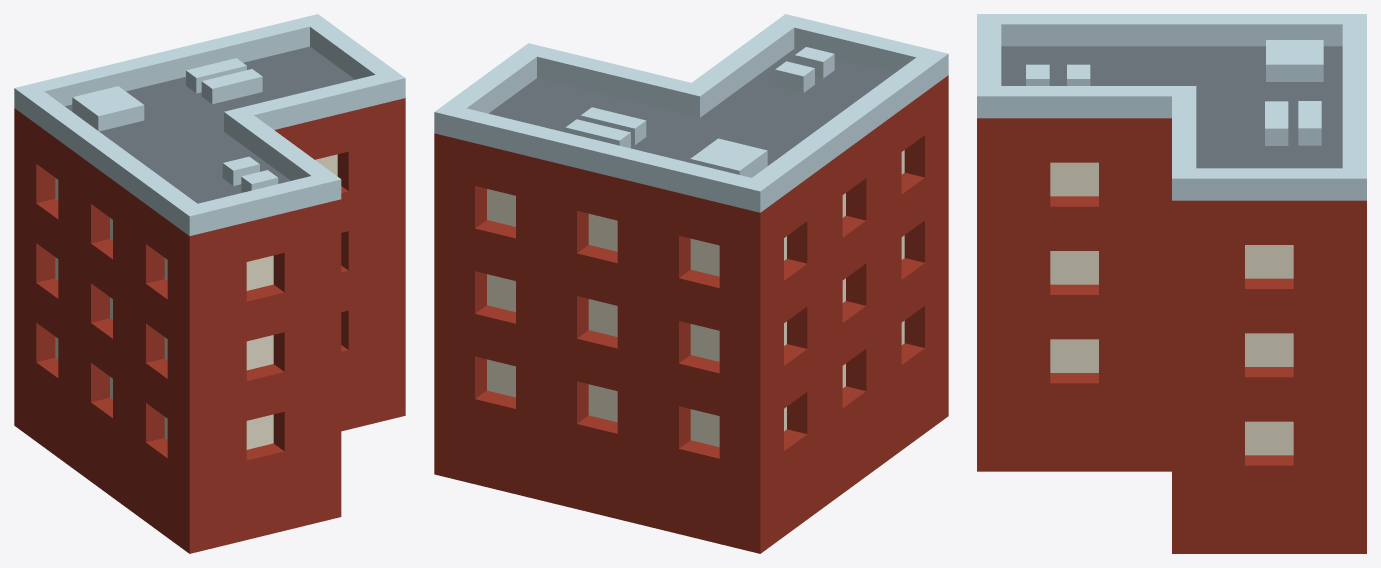
The model's file is Building_3_Extra (Red).obj.
3 renders of one model, left to right at view 1: azimuth 30°, elevation 25°; view 2: azimuth 150°, elevation 25°; view 3: azimuth 270°, elevation 25°, orthographic. The views are drawn at different scales.
Parts seen in each view (by area): view 1: Building_3_Extra_(Red); view 2: Building_3_Extra_(Red); view 3: Building_3_Extra_(Red).
Boxes of the visible parts, x1,y1,x2,y2 form: Building_3_Extra_(Red): (14,14,405,553); Building_3_Extra_(Red): (434,14,948,553); Building_3_Extra_(Red): (977,14,1366,553).
Size of the model in its own units: 1.6 by 1.7 by 1.6.
